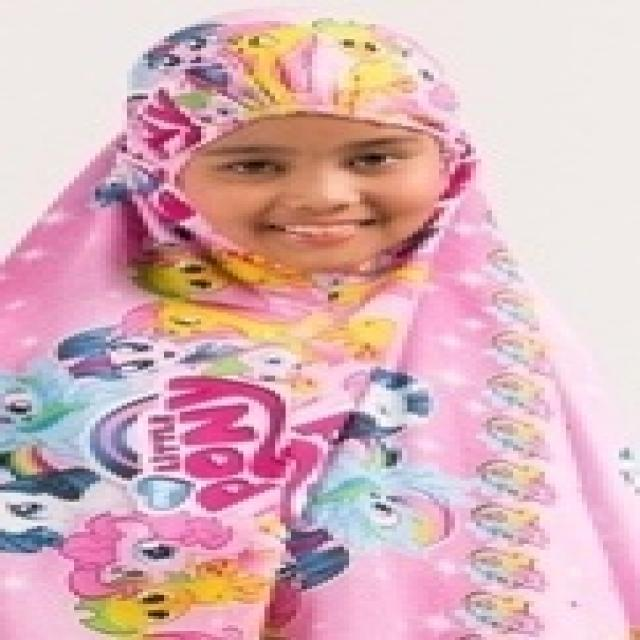head: (124, 26, 478, 274)
